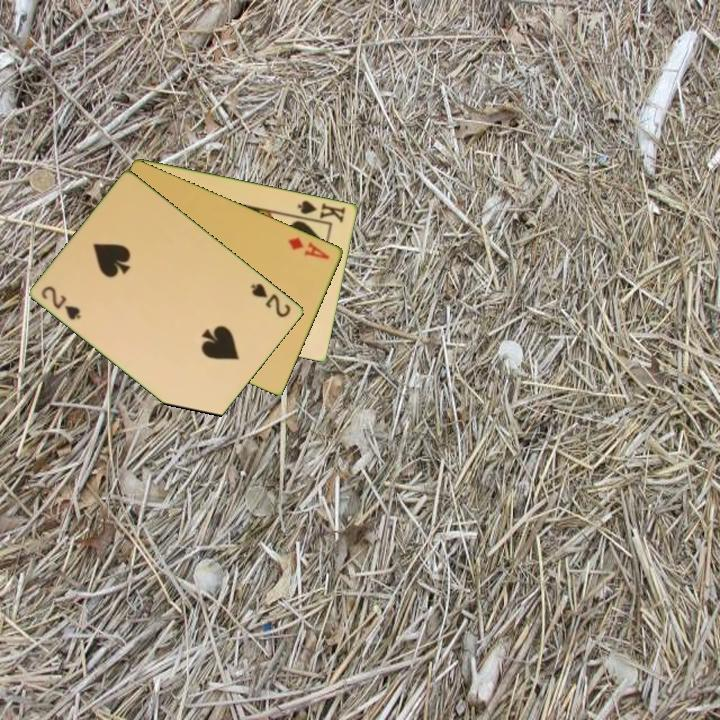2s: (247, 279, 294, 320), (38, 282, 84, 323)
Ad: (285, 233, 333, 262)
Ks: (293, 197, 348, 226)
